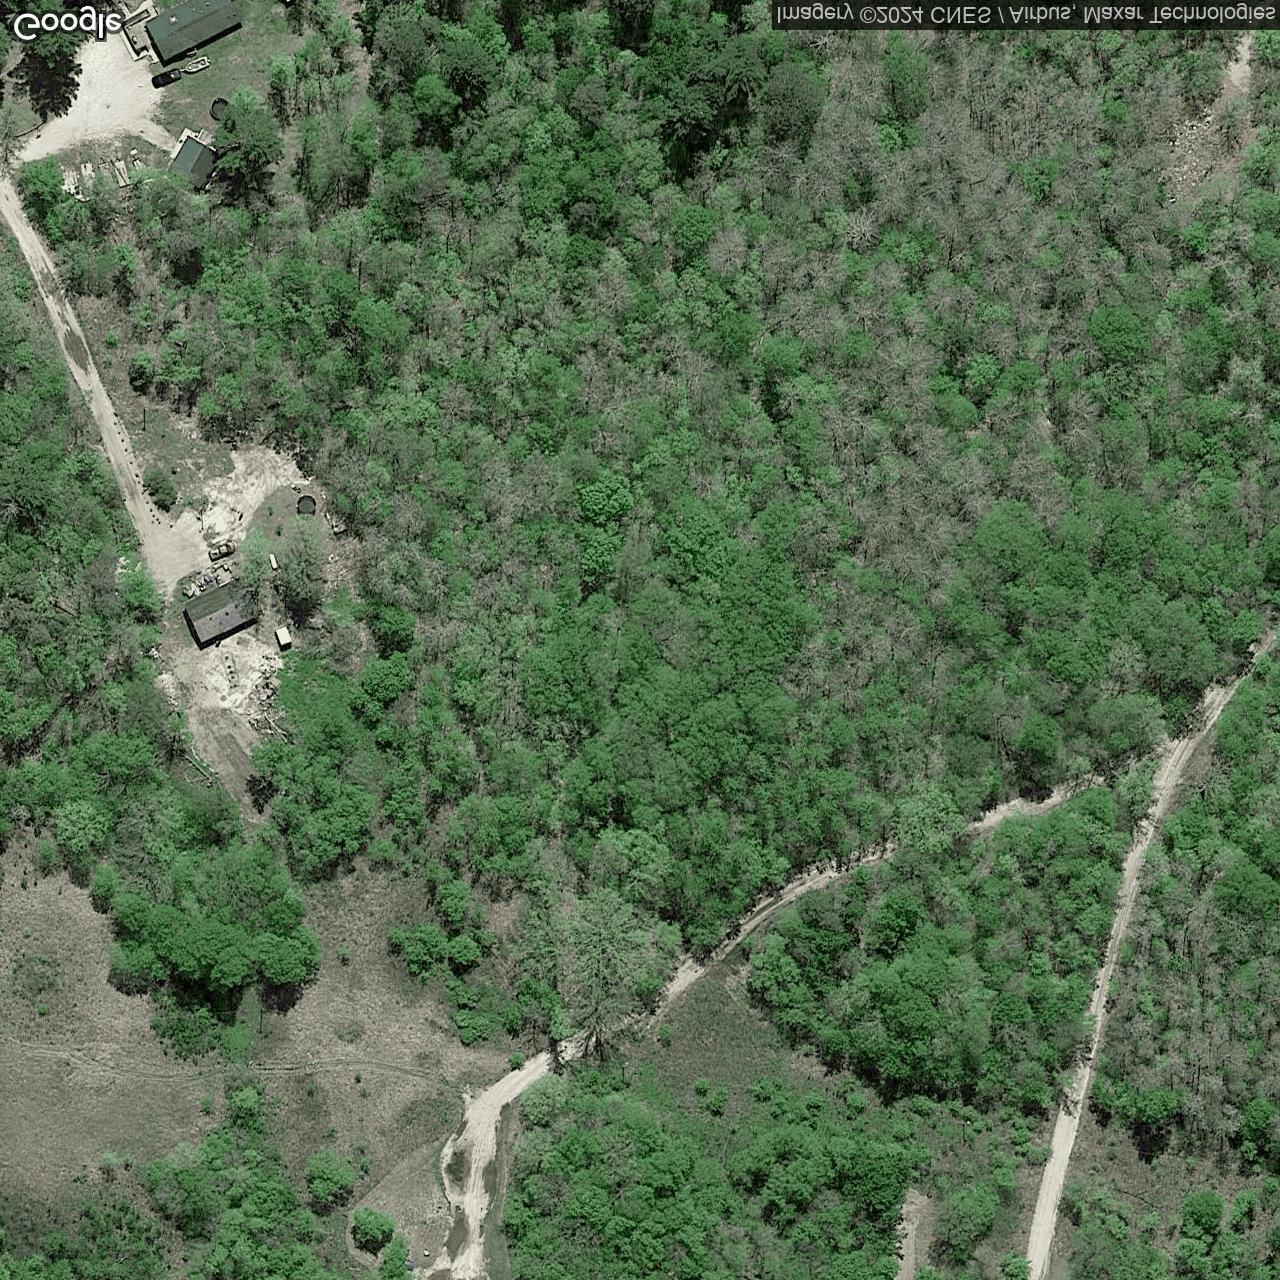Garage: (166, 136, 224, 192)
House: (143, 0, 247, 61), (183, 574, 265, 644)
Propane: (267, 552, 279, 572)
